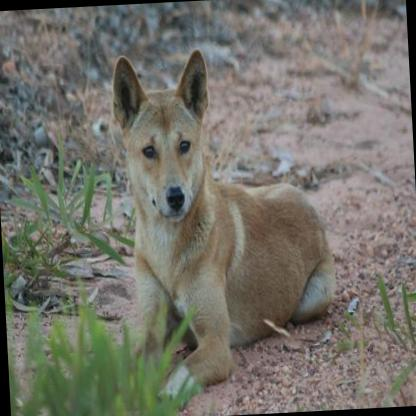dingo: (99, 41, 341, 411)
